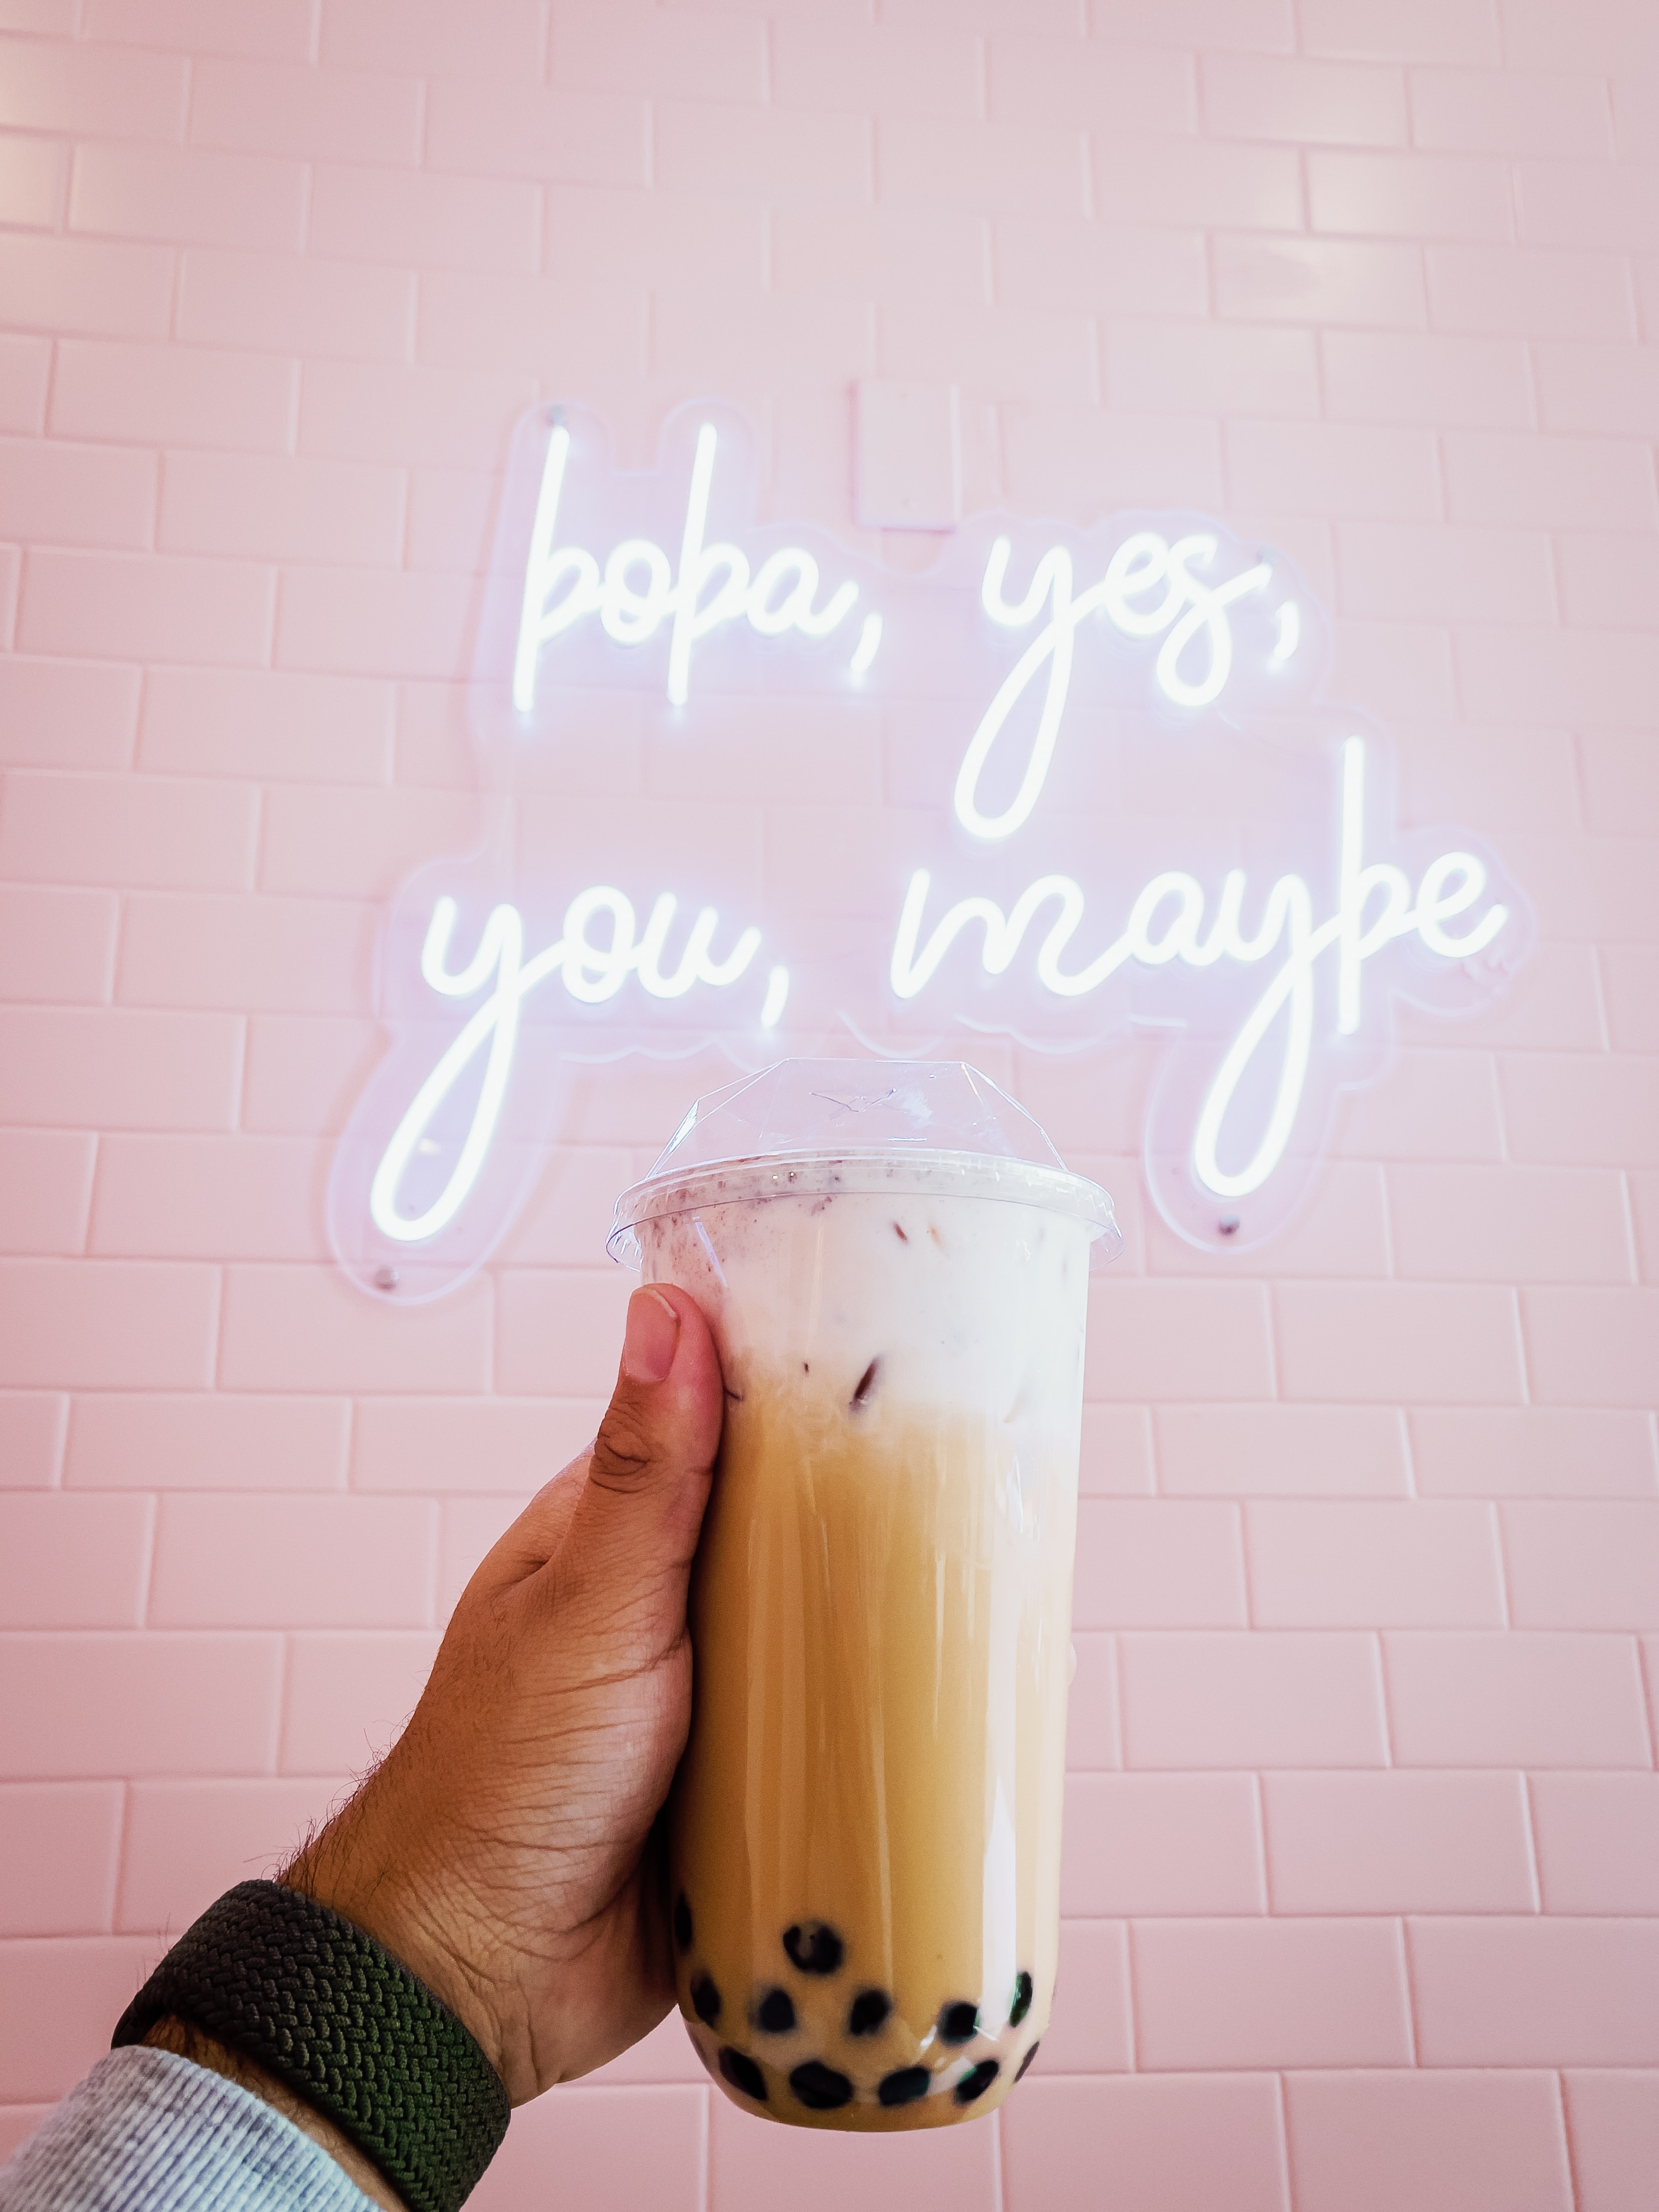boba: (782, 1916, 845, 1975), (788, 2060, 852, 2109), (718, 2048, 767, 2101), (744, 1989, 798, 2034), (847, 1986, 890, 2038), (877, 2066, 929, 2107), (934, 2001, 978, 2047), (690, 1970, 723, 2027), (958, 2059, 999, 2104), (1011, 1972, 1033, 2027)
